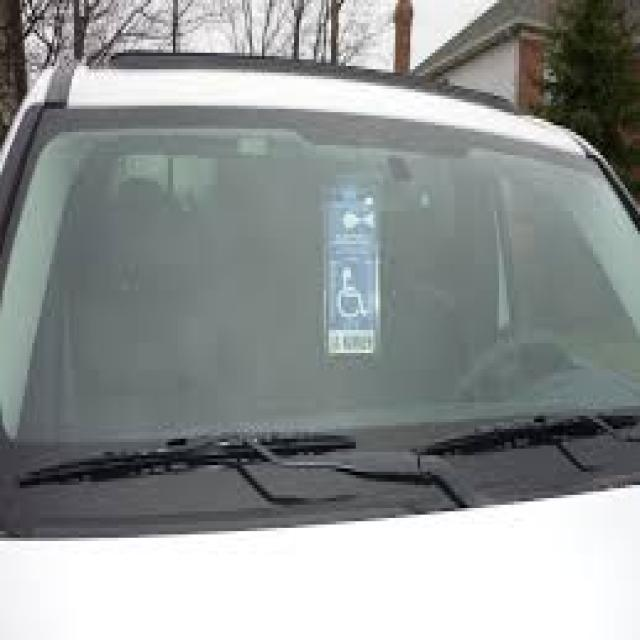symbol_of_access: (337, 266, 367, 320)
